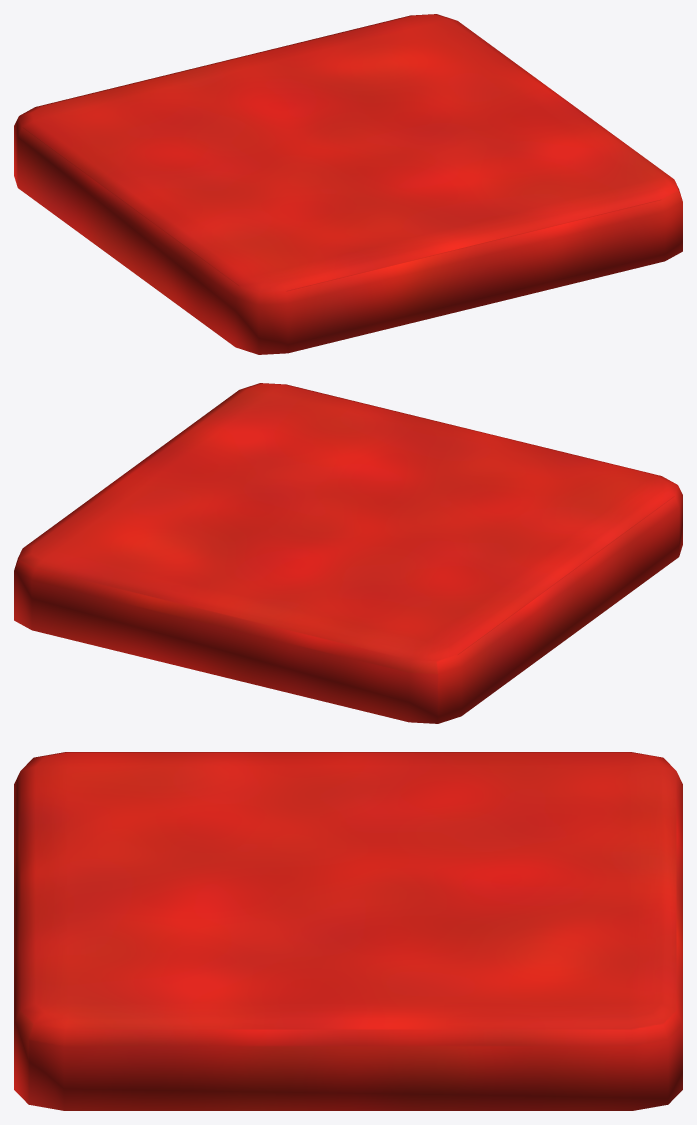
The model's file is Button_top.gltf.
3 views of the same model, one above another, from view 1: azimuth 30°, elevation 25°; view 2: azimuth 150°, elevation 25°; view 3: azimuth 270°, elevation 25° (orthographic). The views are drawn at different scales.
Visible parts, largest first — view 1: Cube.007; view 2: Cube.007; view 3: Cube.007.
Boxes of the visible parts, x1,y1,x2,y2 form: Cube.007: [14, 14, 682, 354]; Cube.007: [14, 383, 682, 723]; Cube.007: [14, 752, 682, 1110].
Bounding box in the file's own units: 1.3 × 0.1813 × 1.3.
Materials: 1 (1 with a texture image).
